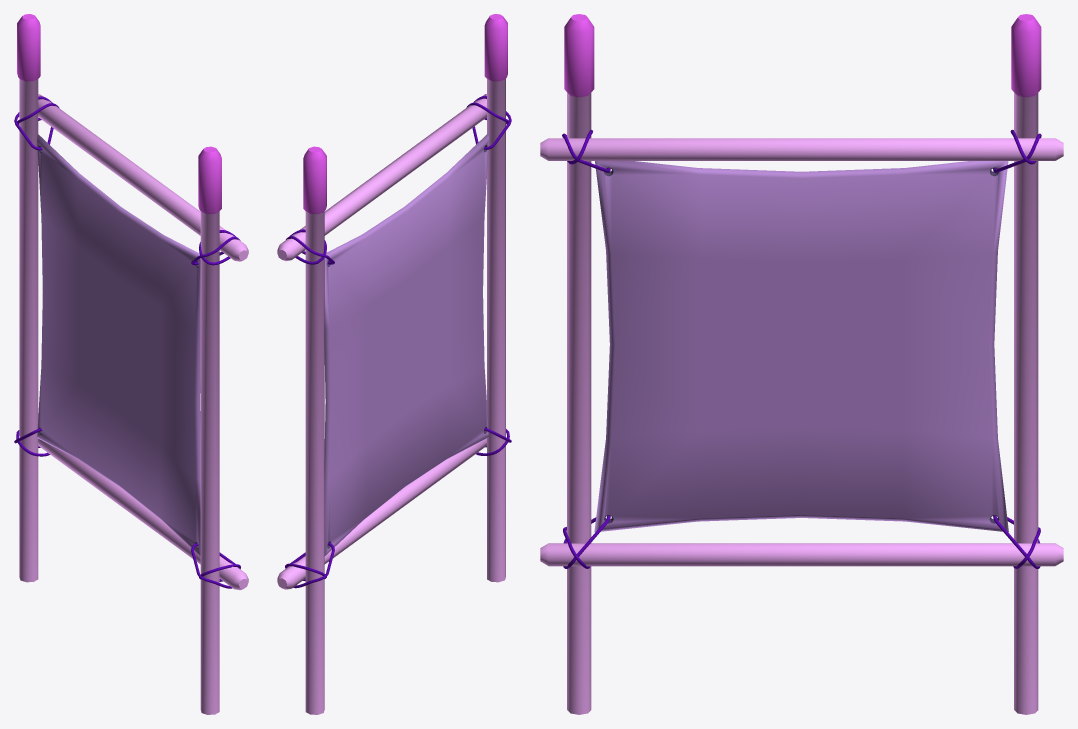
The model's file is BigSign.fbx.
3 views of the same model, side by side, from view 1: azimuth 30°, elevation 25°; view 2: azimuth 150°, elevation 25°; view 3: azimuth 270°, elevation 25° (orthographic). The views are drawn at different scales.
Parts seen in each view (by area): view 1: BigSing_LOD0; view 2: BigSing_LOD0; view 3: BigSing_LOD0.
Part boxes in pixels (bbox=[...]): BigSing_LOD0: bbox=[14, 14, 248, 714]; BigSing_LOD0: bbox=[277, 14, 511, 714]; BigSing_LOD0: bbox=[540, 14, 1063, 714].
Size of what is drawn, in the model's own units: 17.06 by 210 by 144.
